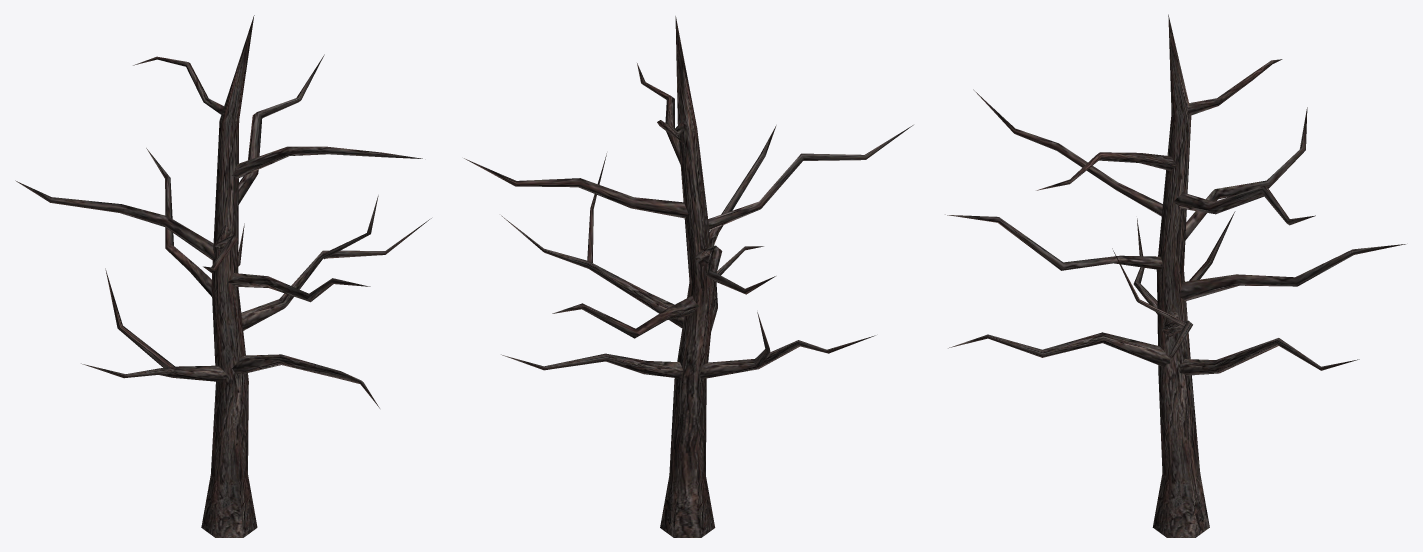
The model's file is stamm.obj.
The picture shows the model from 3 angles, left to right: view 1: azimuth 30°, elevation 25°; view 2: azimuth 150°, elevation 25°; view 3: azimuth 270°, elevation 25°; orthographic projection. The views are drawn at different scales.
Size of the model in its own units: 980 by 1299 by 1045.
Materials: 1 (1 with a texture image).
